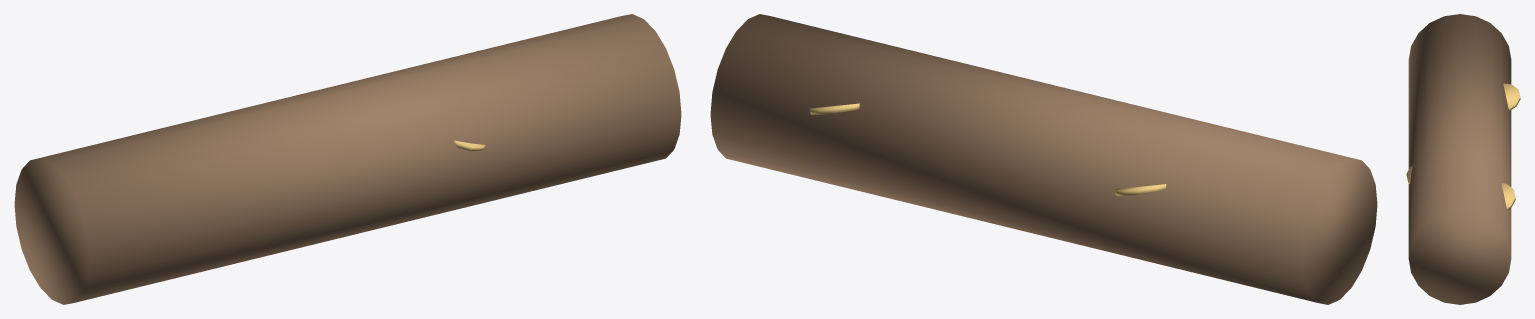
Rendered from stylized_hollow_log.glb.
3 renders of one model, left to right at view 1: azimuth 30°, elevation 25°; view 2: azimuth 150°, elevation 25°; view 3: azimuth 270°, elevation 25°, orthographic. The views are drawn at different scales.
Parts seen in each view (by area): view 1: Cylinder; view 2: Cylinder; view 3: Cylinder, Cylinder.001, Cylinder.003.
Part boxes in pixels (x1,y1,x2,y2): Cylinder: (14, 14, 681, 304); Cylinder: (710, 14, 1377, 304); Cylinder: (1408, 14, 1511, 304); Cylinder.001: (1503, 83, 1520, 110); Cylinder.003: (1501, 183, 1515, 209).
Bounding box in the file's own units: 10 × 2.2 × 2.44.
